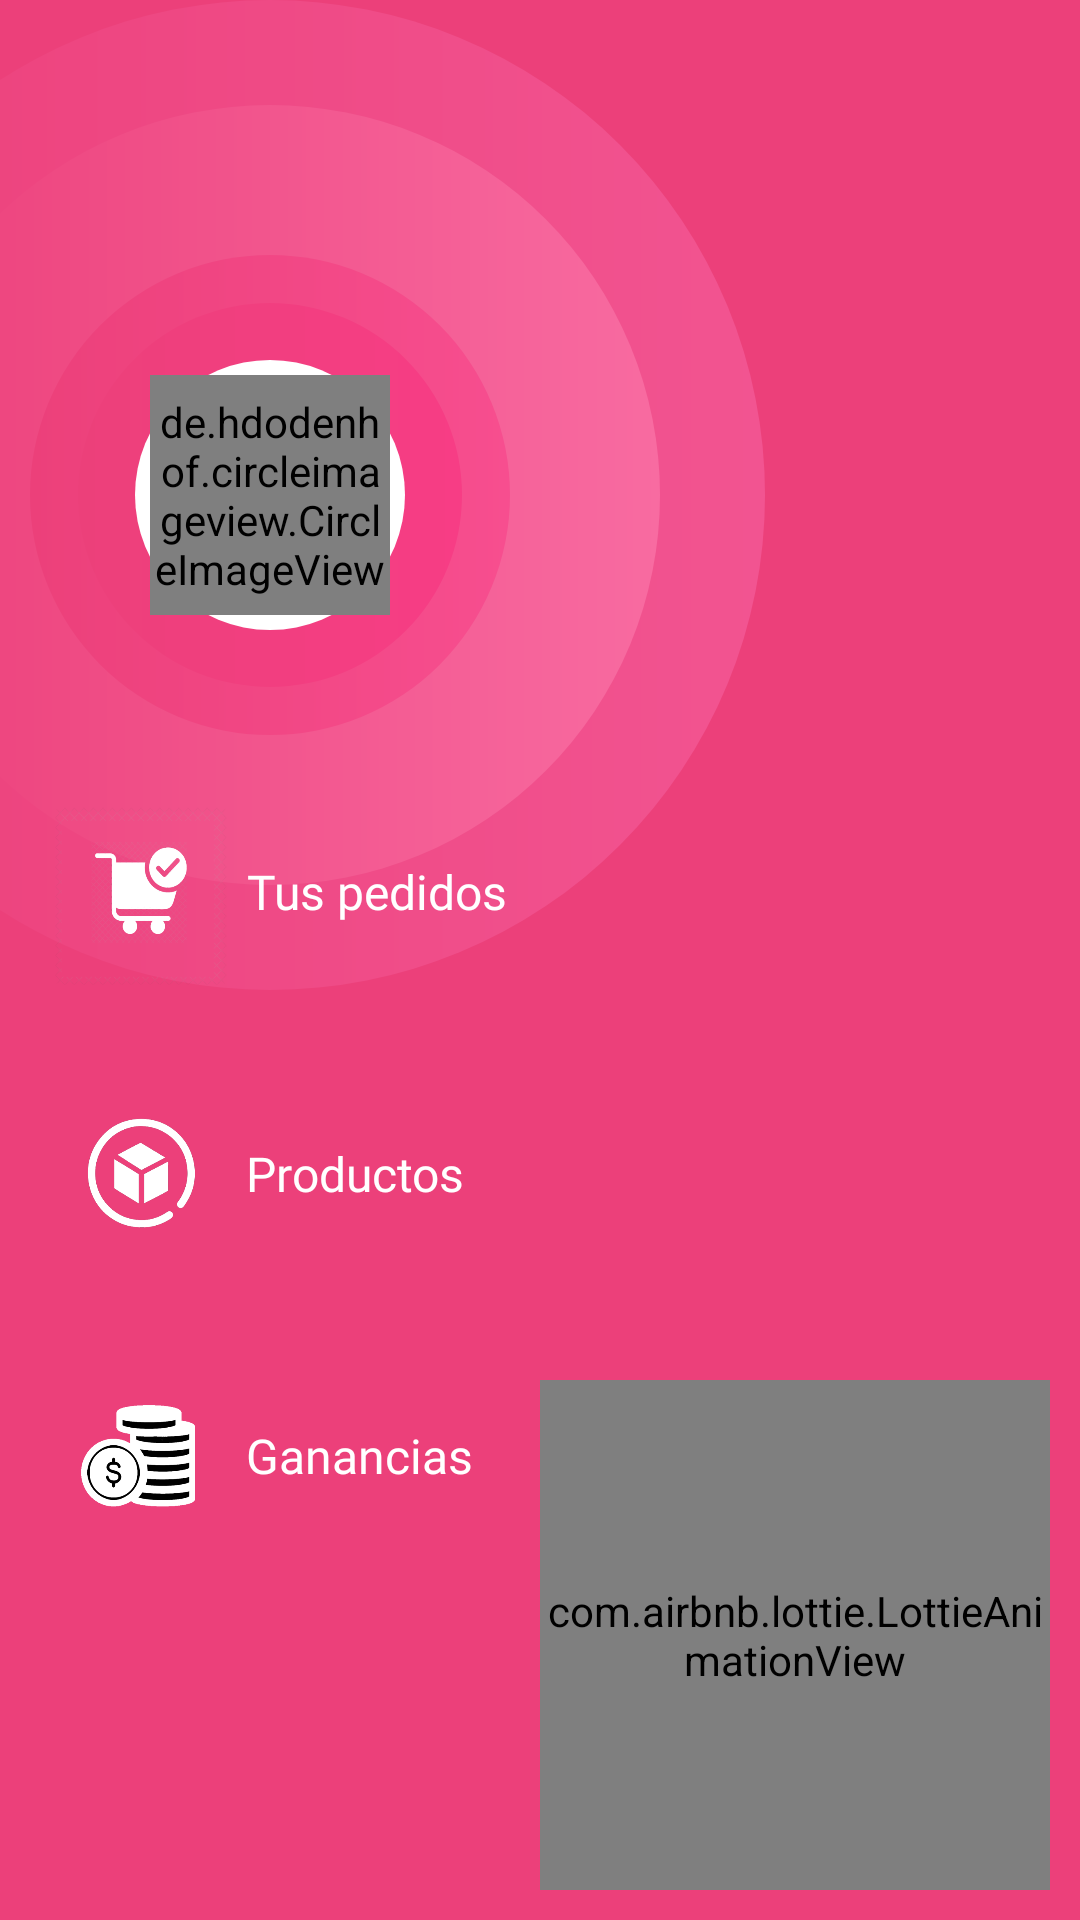

Icons on this 1080x1920 Android screen, each with its box as (x1, y1, x2, y2):
money: (81, 1405, 195, 1507)
order: (95, 812, 222, 934)
